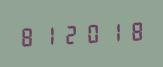eight: (17, 23, 37, 49), (123, 17, 143, 43)
one: (38, 22, 58, 48), (102, 18, 122, 44)
two: (60, 21, 80, 47)
zero: (81, 20, 101, 45)
